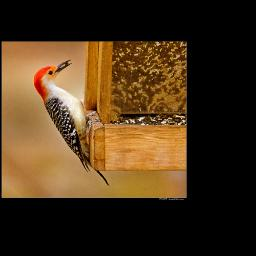Woodpecker: (33, 59, 110, 186)
